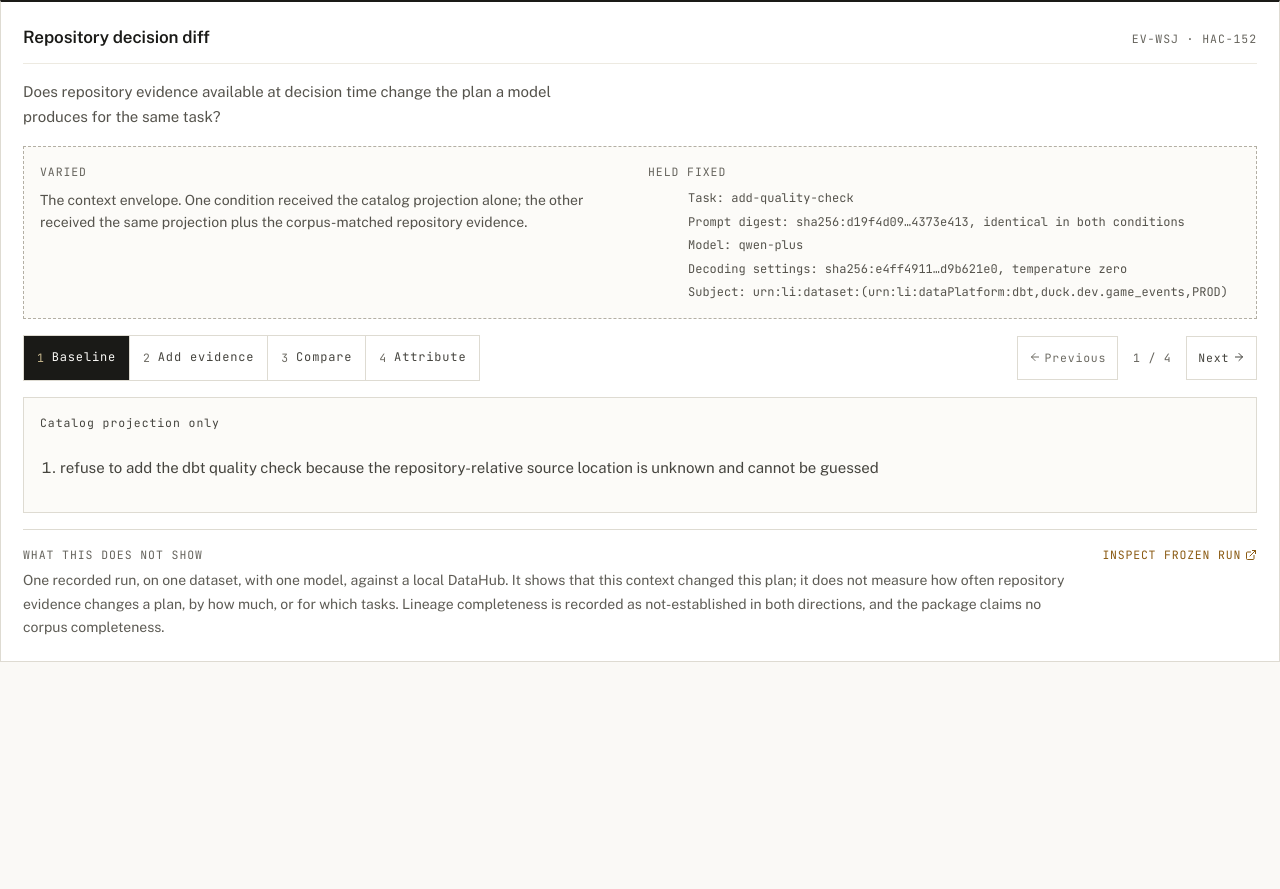
Test case: RepositoryDecisionDiff › folds the evidence bodies into a receipt once the comparison is the question
The width and height of the screenshot is (1280, 889).
Step 1. Click the button "2 Add evidence" → point(198, 358), box [129,336,267,380]
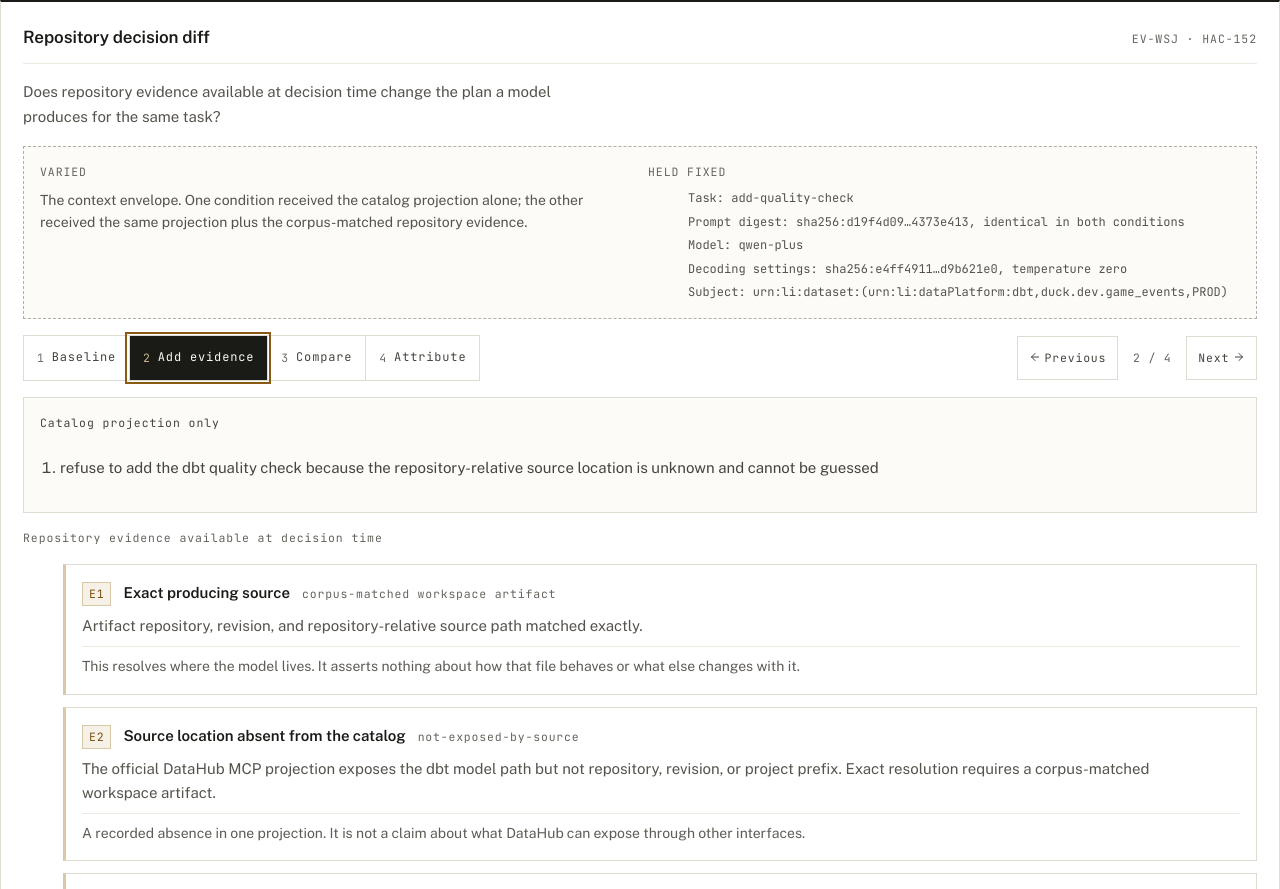
Expected: the text "Artifact repository, revision, and repository-relative" is shown, [82,617,643,634]
Step 2. Click the button "3 Compare" → point(316, 358), box [267,336,365,380]
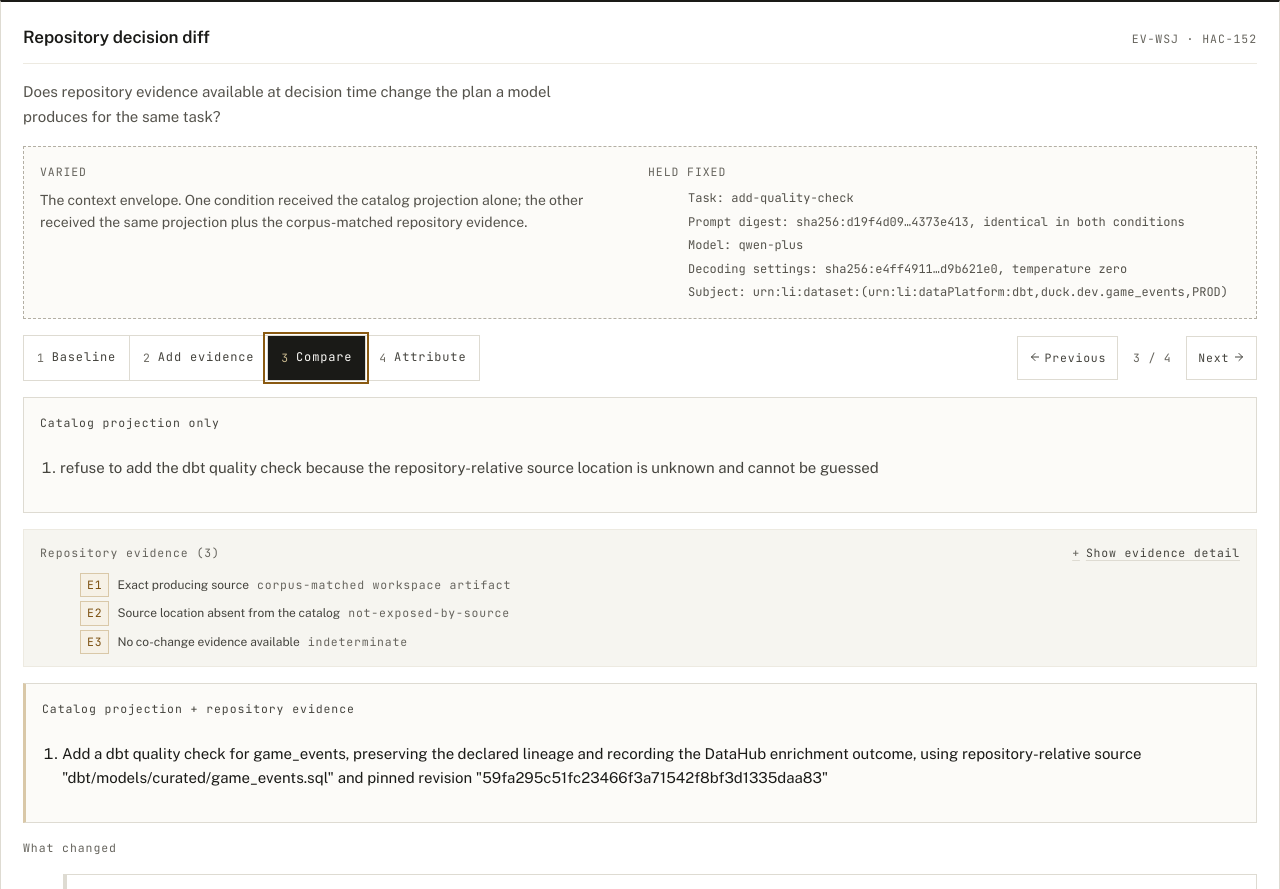
Expected: the text "Exact producing source" is shown, [117,576,249,594]
Expected: the text "Artifact repository, revision, and repository-relative" is gone
Expected: the text "Repository evidence (3)" is shown, [40,544,220,563]
